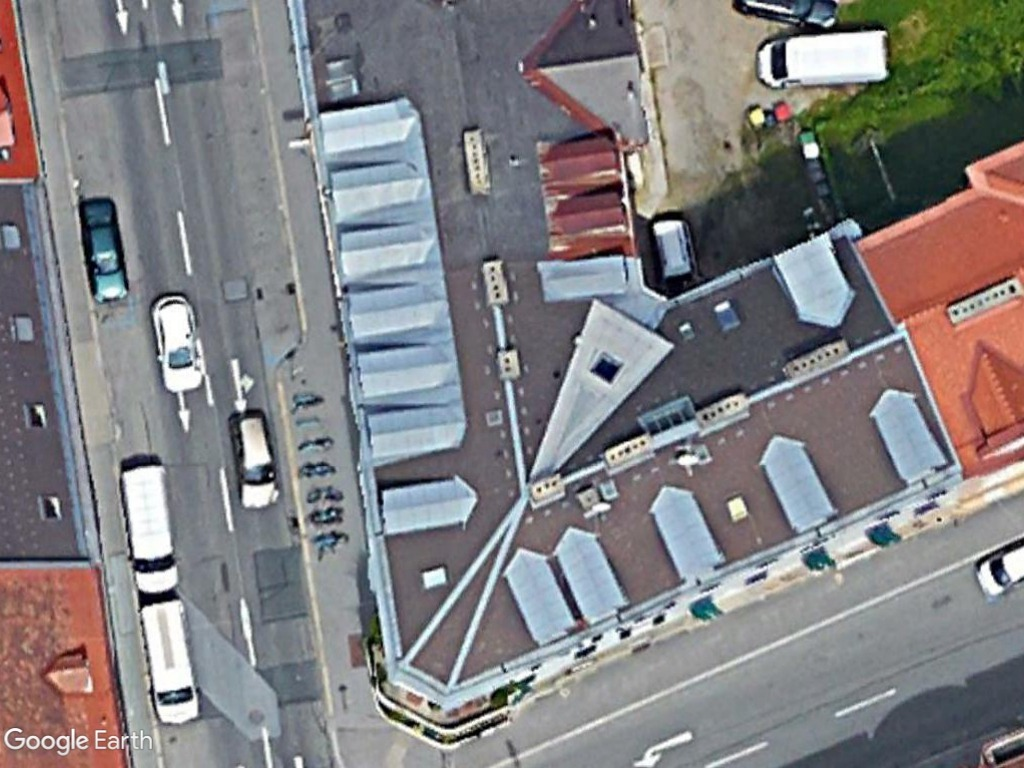car: (146, 287, 210, 400), (74, 192, 135, 309), (224, 401, 284, 515)
van: (749, 21, 901, 94), (113, 457, 185, 600), (138, 592, 203, 727)
